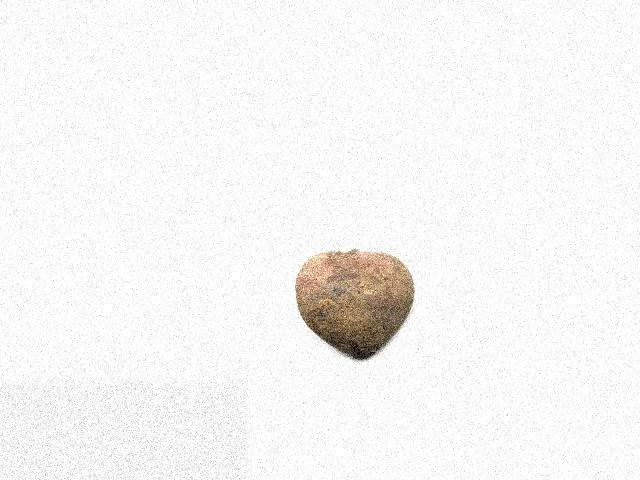beet: (294, 250, 414, 359)
